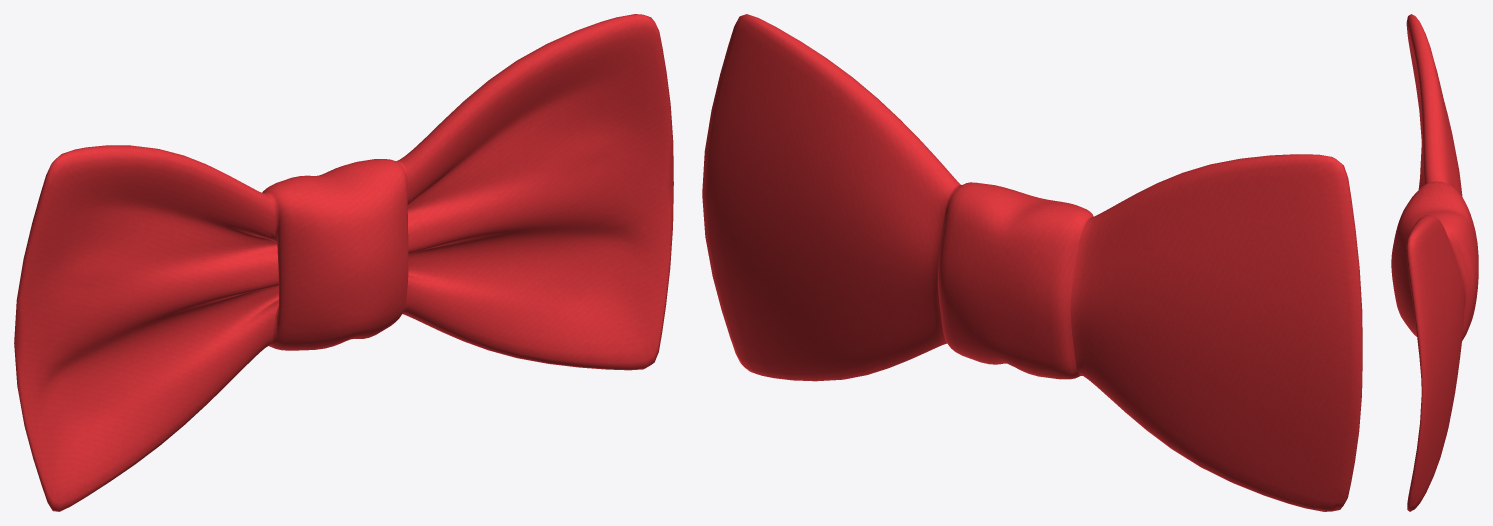
The model's file is Bowtie.fbx.
3 renders of one model, left to right at view 1: azimuth 30°, elevation 25°; view 2: azimuth 150°, elevation 25°; view 3: azimuth 270°, elevation 25°, orthographic. The views are drawn at different scales.
Parts seen in each view (by area): view 1: Cube.001, Cube; view 2: Cube.001, Cube; view 3: Cube.001, Cube.
Boxes of the visible parts, x1,y1,x2,y2 form: Cube.001: (14,14,673,511); Cube: (262,159,408,350); Cube.001: (702,14,1362,511); Cube: (937,182,1093,379); Cube.001: (1406,14,1466,511); Cube: (1391,181,1478,340).
Size of the model in its own units: 509 by 262 by 75.13.
1 material, 1 textured.
